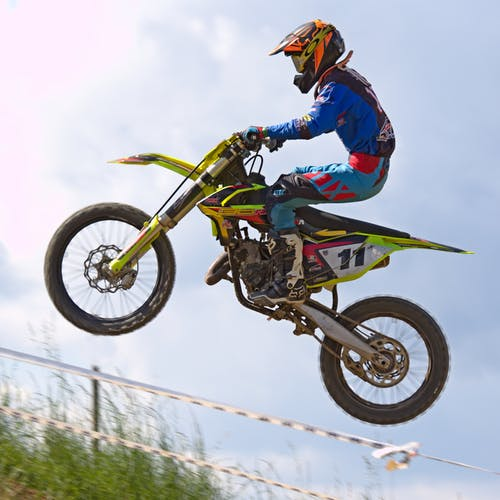helmet: (243, 13, 395, 191)
